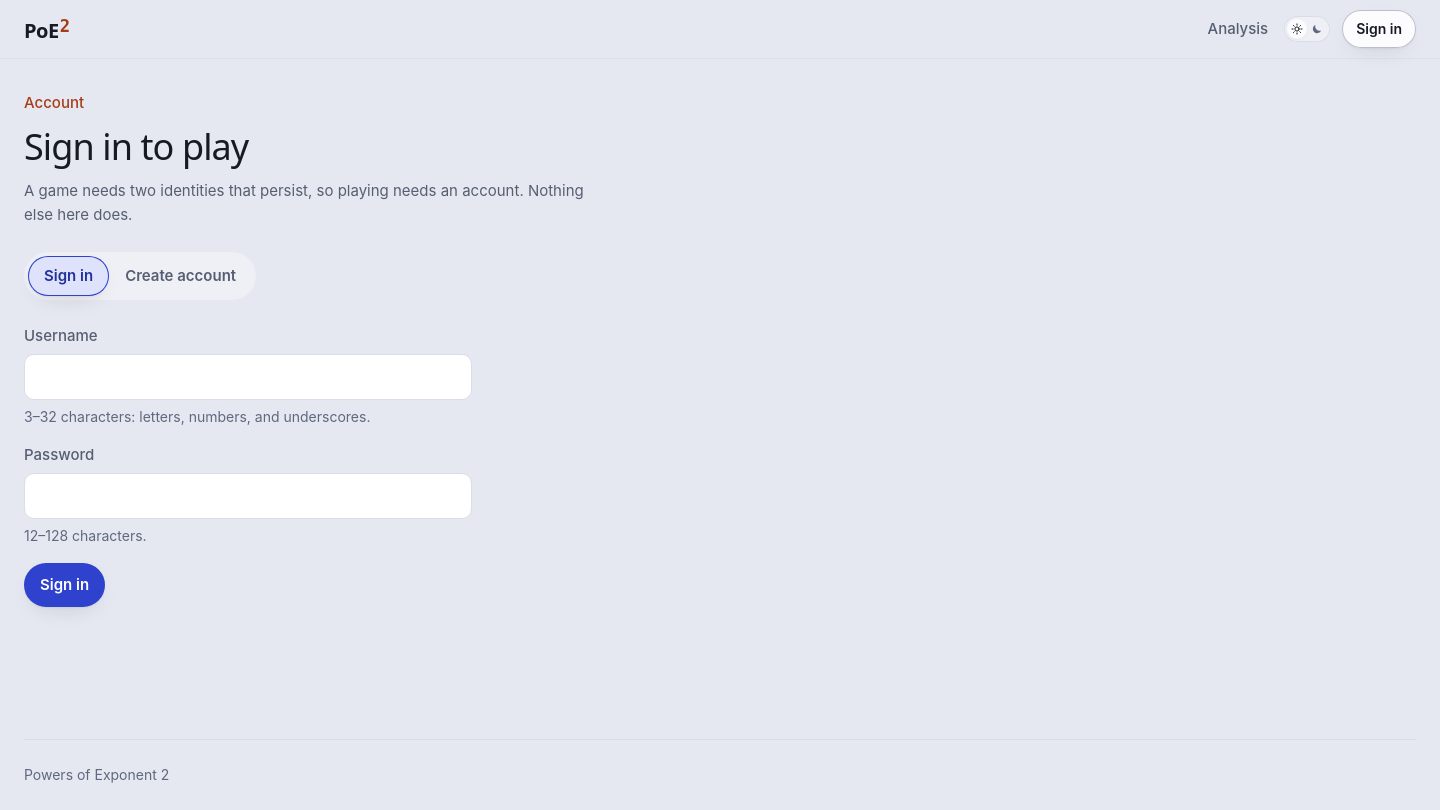
Test: AuthPage › reports an unreachable service in its own words
Check: the heading "Sign in to play" is shown, box 24,122 -> 248,171
In the field labelled "Username": (248, 377) 24,354 -> 472,400, type "Player_One"
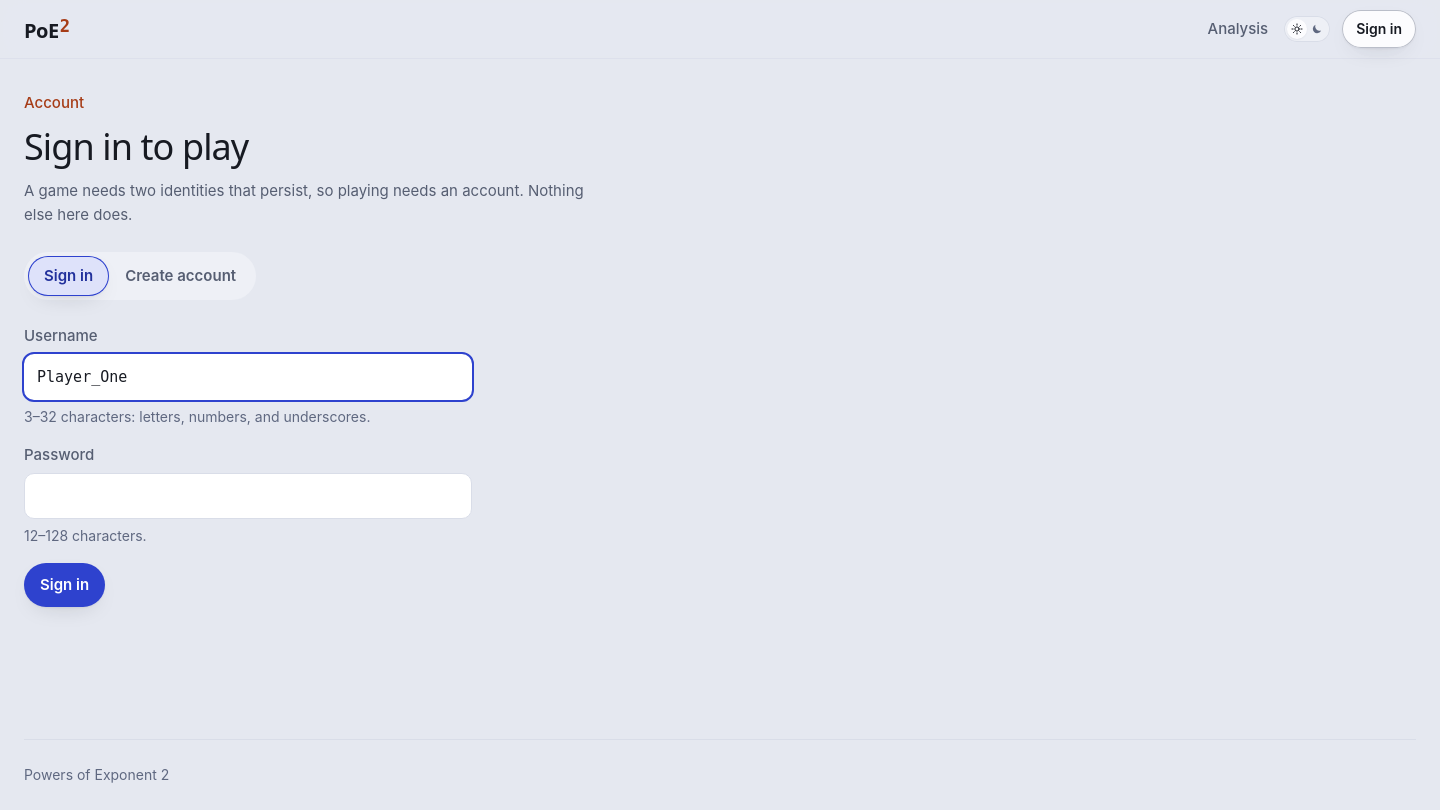
In the password field labelled "Password": (248, 496) 24,473 -> 472,519, type "correct horse battery staple"
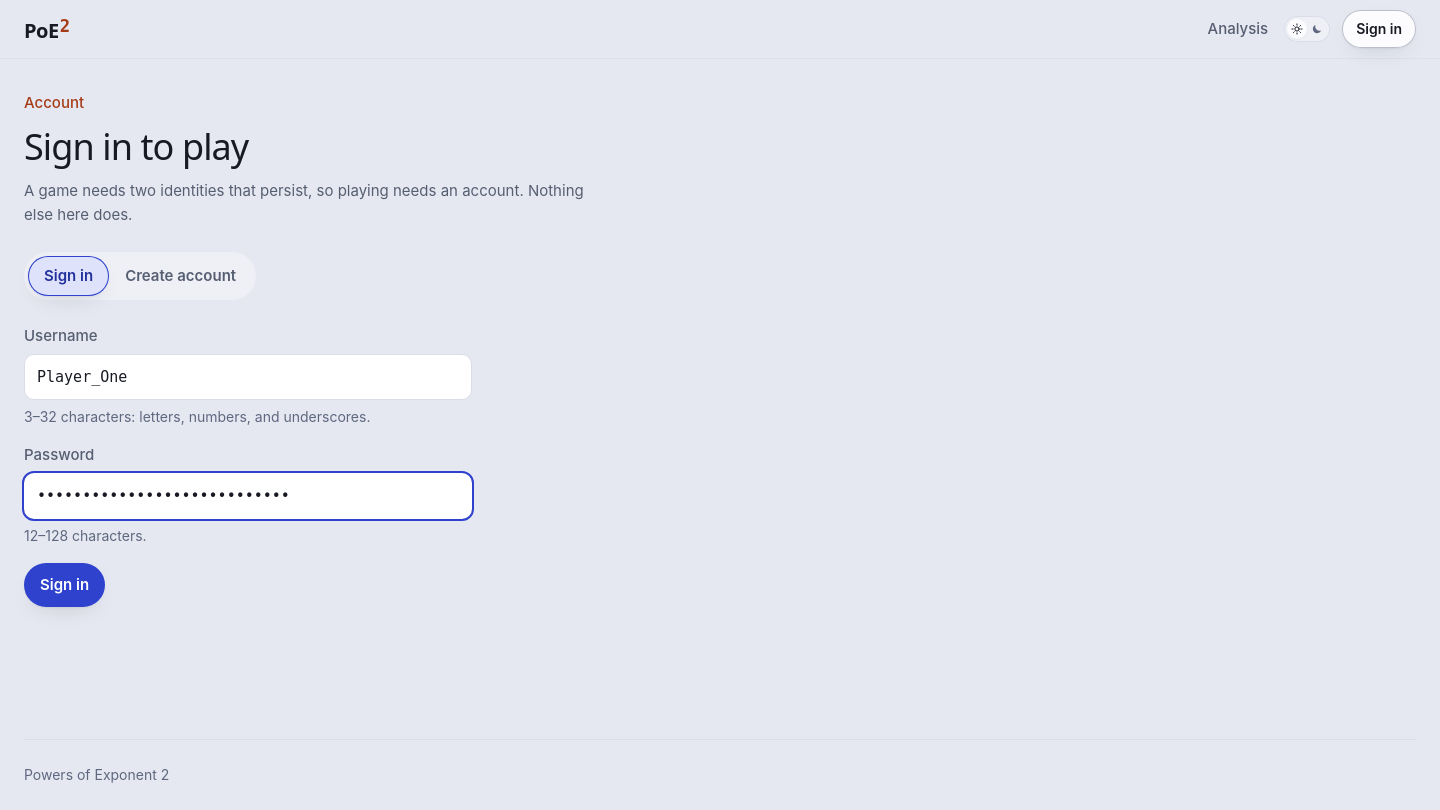
Click the button "Sign in" below "12–128 characters.": (65, 585) 24,563 -> 105,607
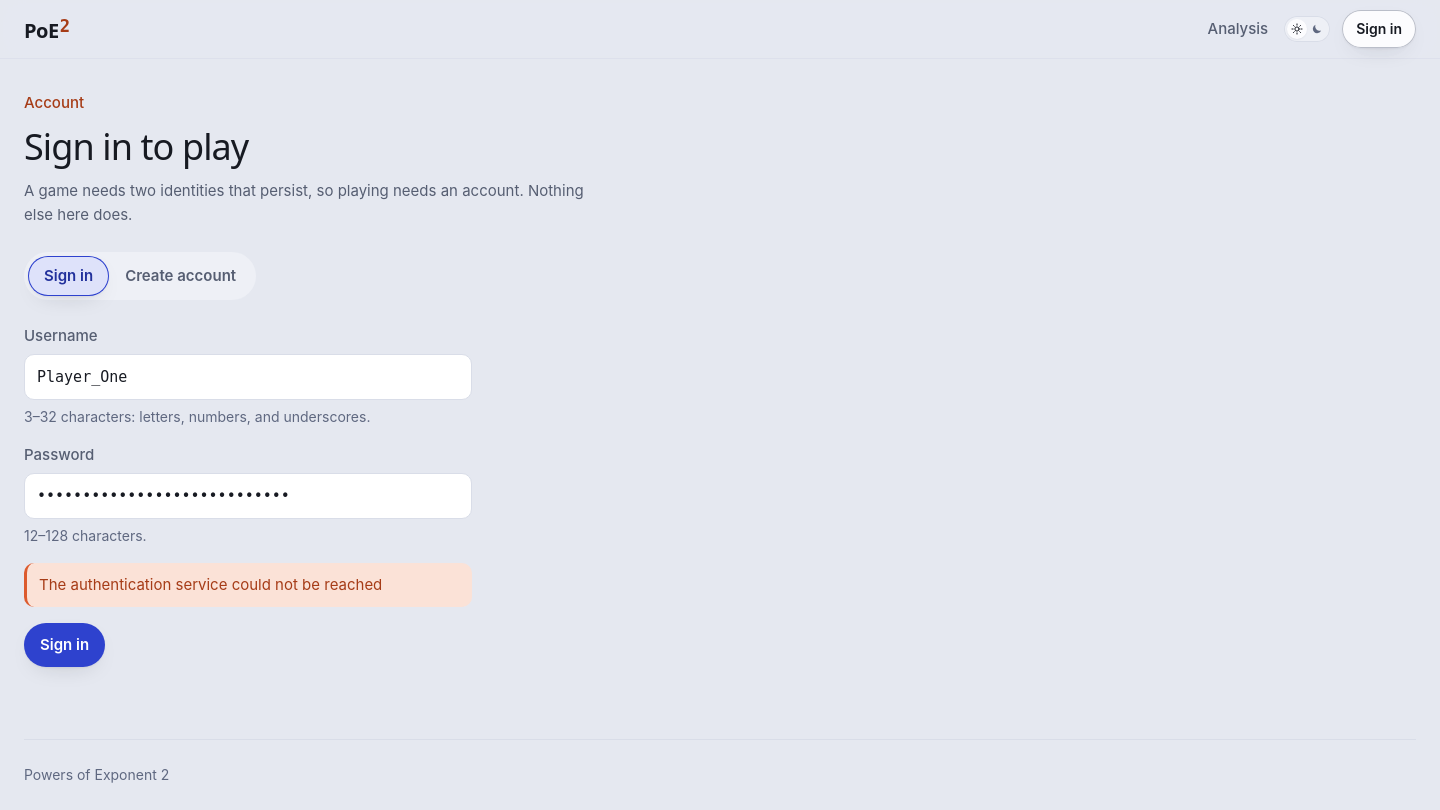
Check: the message reads "The authentication service could not be reached", box 39,575 -> 382,594
